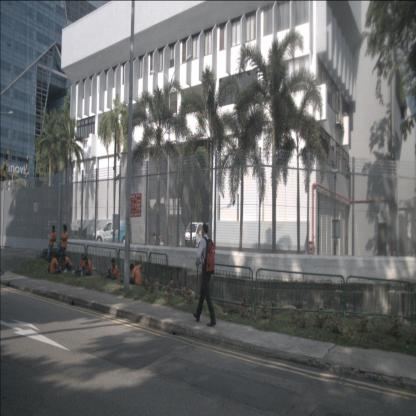human-pedestrian-adult: (193, 223, 216, 327), (128, 255, 144, 289), (56, 224, 68, 267), (45, 225, 57, 265), (106, 258, 120, 282), (72, 252, 87, 274), (49, 254, 62, 276), (80, 255, 92, 277), (60, 253, 72, 272)
vehicle-car: (93, 220, 132, 246), (184, 222, 218, 249)
vehicle-motorcycle: (152, 230, 164, 247)
